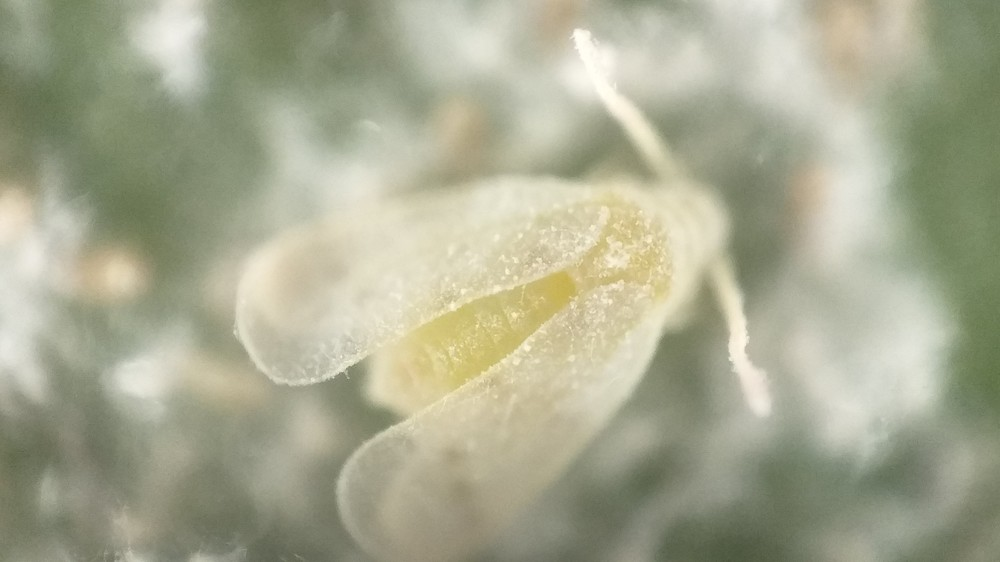Mosca Blanca: (219, 24, 791, 555)
